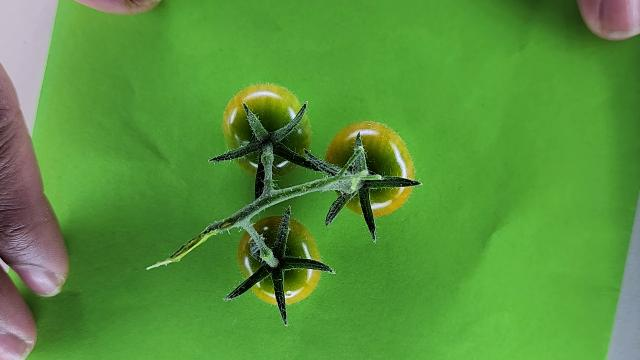Fully Grown: (324, 121, 416, 216), (221, 83, 311, 177), (237, 216, 322, 305)
